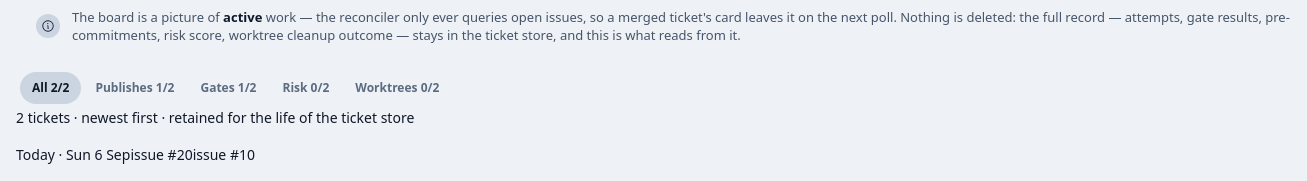
ActivityScreen + ActivityFilterBar, wired through useActivityFilter › switching back to "All" restores every ticket
Click the button "Gates 1/2": (228, 88) 188,72 -> 268,104
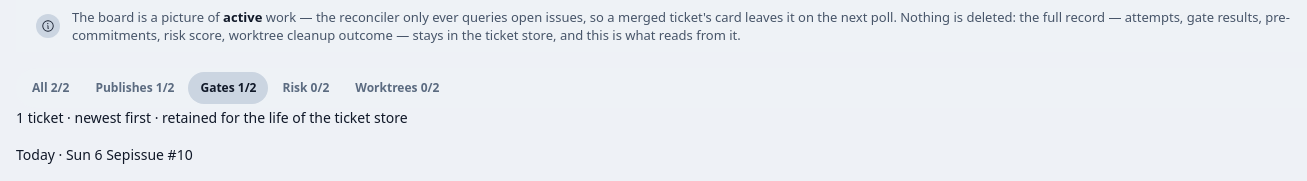
Check: the text "issue #20" is gone
Click the button "All 2/2": (51, 88) 20,72 -> 81,104
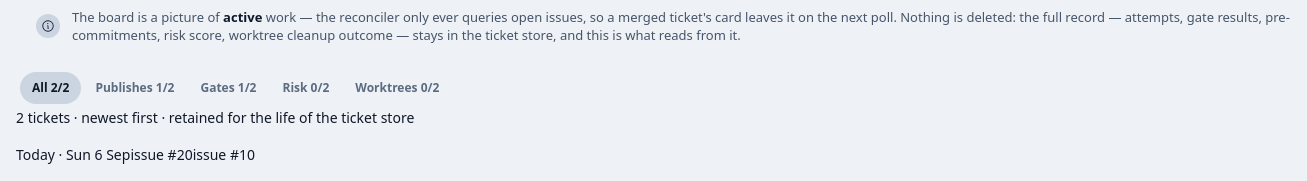
Check: the text "issue #10" is shown, box 193,145 -> 255,164
Check: the text "issue #20" is shown, box 130,145 -> 193,164
